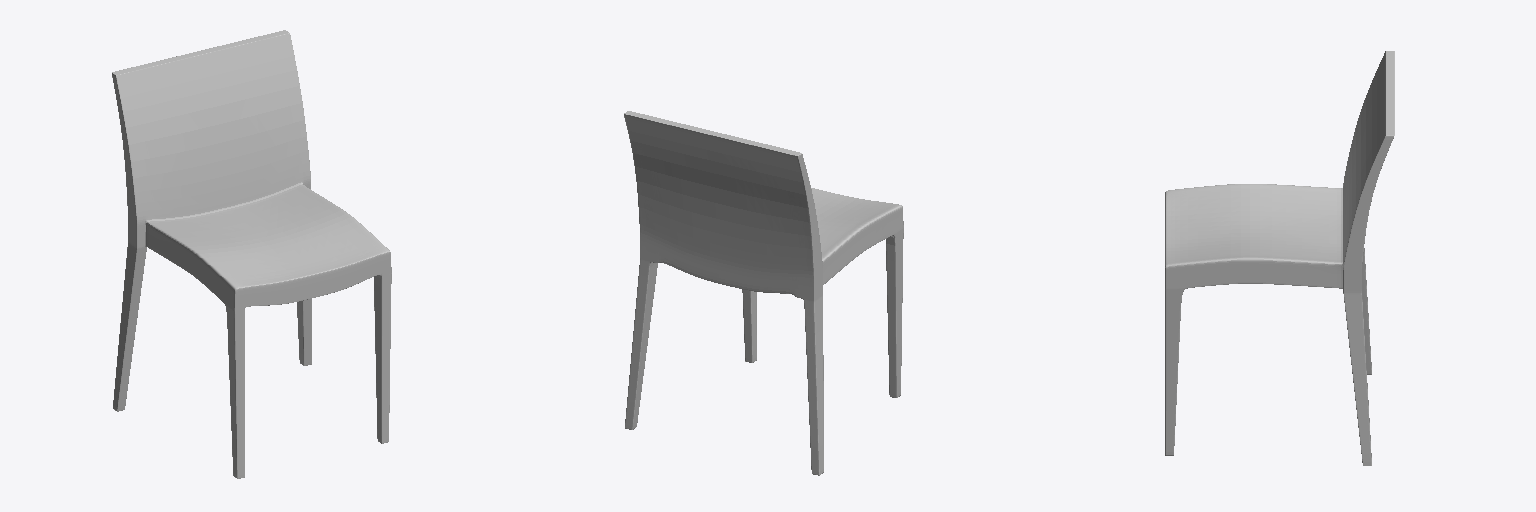
File: Garden chair.obj
3 views of the same model, side by side, from view 1: azimuth 30°, elevation 25°; view 2: azimuth 150°, elevation 25°; view 3: azimuth 270°, elevation 25° (orthographic).
Visible parts, largest first — view 1: Chair; view 2: Chair; view 3: Chair.
Part boxes in pixels (x1,y1,x2,y2): Chair: (112,30,391,478); Chair: (624,111,903,475); Chair: (1165,51,1394,465).
Bounding box in the file's own units: 0.5 × 0.8 × 0.51.